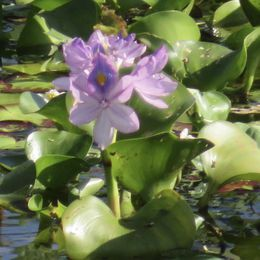water_hyacinth: (17, 0, 260, 260)
